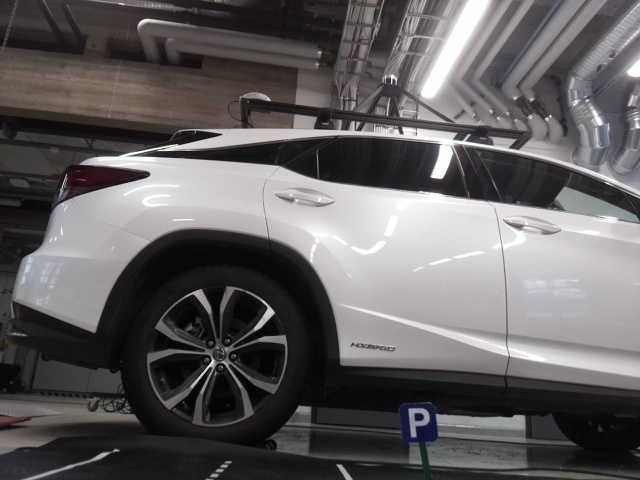Parking: (398, 402, 438, 443)
